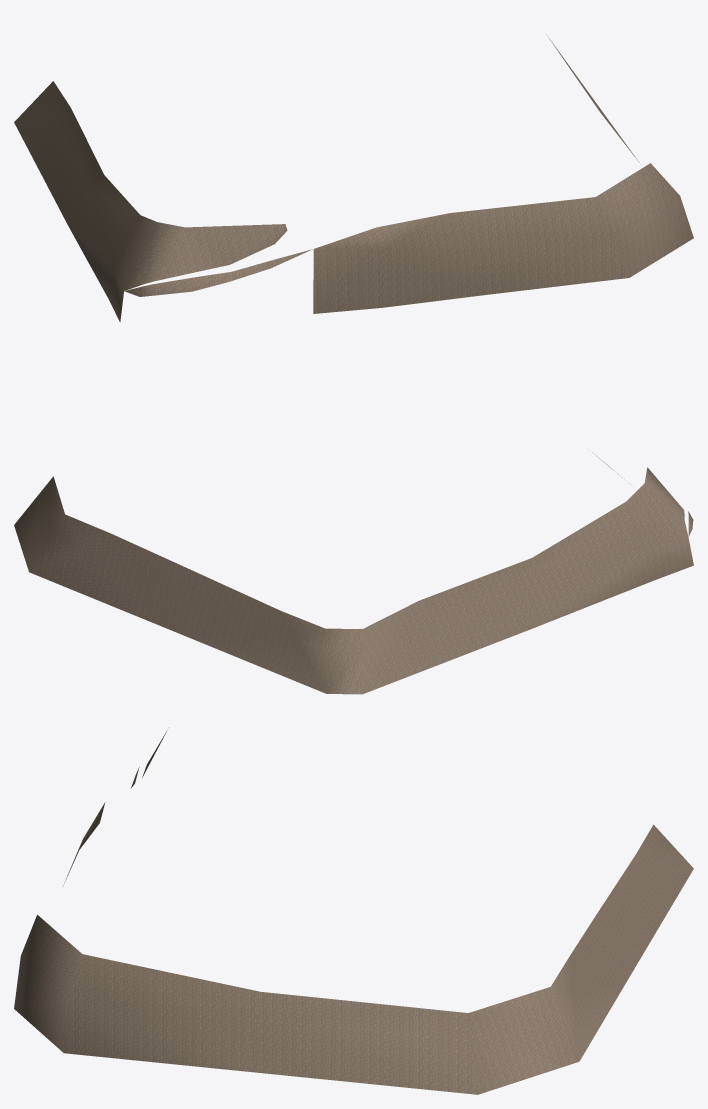
Rendered from kd_stage_1366d7_21_10_bounded.glb.
3 views of the same model, one above another, from view 1: azimuth 30°, elevation 25°; view 2: azimuth 150°, elevation 25°; view 3: azimuth 270°, elevation 25° (orthographic). The views are drawn at different scales.
Parts seen in each view (by area): view 1: kd_stage_1366d7_21_10_bounded; view 2: kd_stage_1366d7_21_10_bounded; view 3: kd_stage_1366d7_21_10_bounded.
Boxes of the visible parts, bbox=[...] form: kd_stage_1366d7_21_10_bounded: bbox=[14, 34, 693, 322]; kd_stage_1366d7_21_10_bounded: bbox=[14, 452, 693, 694]; kd_stage_1366d7_21_10_bounded: bbox=[14, 730, 693, 1094].
Size of the model in its own units: 383 by 53.45 by 359.
Materials: 1 (1 with a texture image).
